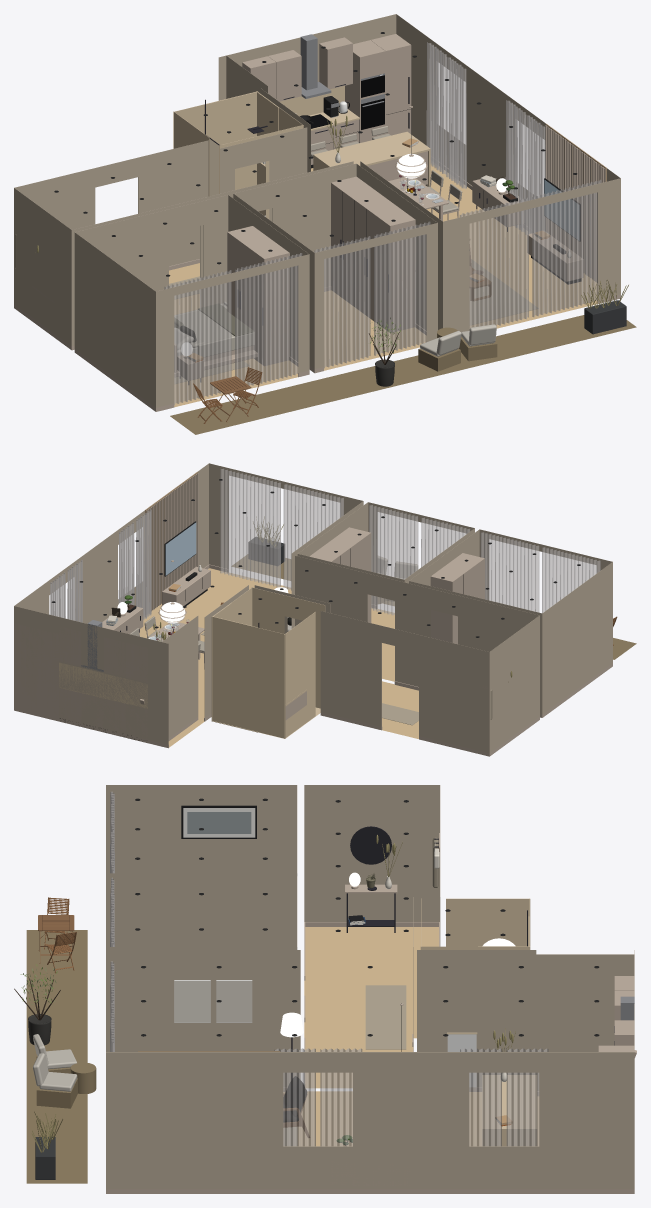
File: unit-1.C-natura.glb
3 renders of one model, top to bottom at view 1: azimuth 30°, elevation 25°; view 2: azimuth 150°, elevation 25°; view 3: azimuth 270°, elevation 25°, orthographic. The views are drawn at different scales.
Visible parts, largest first — view 1: int-wall, int-sheer, int-joineryTall, int-floor, int-deck, int-wood, int-joinery, int-showerWall, int-worktop, int-rug, int-bathWall, int-duvet (+13 smaller); view 2: int-wall, int-sheer, int-bathWall, int-joineryTall, int-joinery, int-wood, int-floor, int-splash, int-skirting, int-hallFloor, int-deck, int-tv (+6 smaller); view 3: int-wall, int-hallFloor, int-sheer, int-deck, int-bathWall, int-worktop, int-floor, int-skirting, int-rug, int-metal, int-outCushion, int-art:2:0 (+13 smaller).
Boxes of the visible parts, x1,y1,x2,y2 form: int-wall: [14, 14, 620, 407]; int-sheer: [164, 42, 601, 404]; int-joineryTall: [227, 34, 583, 365]; int-floor: [174, 163, 597, 407]; int-deck: [170, 315, 636, 434]; int-wood: [32, 106, 605, 380]; int-joinery: [242, 37, 359, 164]; int-showerWall: [204, 91, 278, 215]; int-worktop: [259, 108, 430, 186]; int-rug: [169, 259, 538, 383]; int-bathWall: [173, 91, 303, 219]; int-duvet: [174, 302, 254, 357]; int-wall: [14, 463, 612, 752]; int-sheer: [50, 469, 600, 622]; int-bathWall: [211, 587, 325, 738]; int-joineryTall: [14, 527, 484, 721]; int-joinery: [59, 626, 147, 739]; int-wood: [120, 473, 513, 714]; int-floor: [139, 568, 394, 747]; int-splash: [59, 662, 147, 708]; int-skirting: [14, 564, 612, 756]; int-hallFloor: [382, 681, 418, 738]; int-deck: [232, 554, 636, 659]; int-tv: [165, 522, 196, 575]; int-wall: [106, 785, 634, 1189]; int-hallFloor: [304, 927, 438, 1088]; int-sheer: [110, 791, 548, 1146]; int-deck: [26, 930, 87, 1183]; int-bathWall: [420, 898, 530, 949]; int-worktop: [447, 1032, 536, 1146]; int-floor: [283, 1091, 538, 1146]; int-skirting: [106, 922, 634, 1193]; int-rug: [283, 985, 406, 1145]; int-metal: [291, 826, 614, 1079]; int-outCushion: [33, 1034, 77, 1091]; int-art:2:0: [174, 980, 210, 1022].
Bounding box in the file's own units: 10.9 × 2.8 × 10.71.
